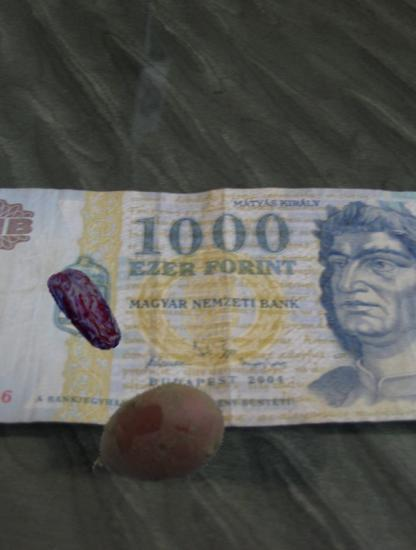Dates: (39, 260, 136, 357)
Potato: (89, 363, 229, 503)
